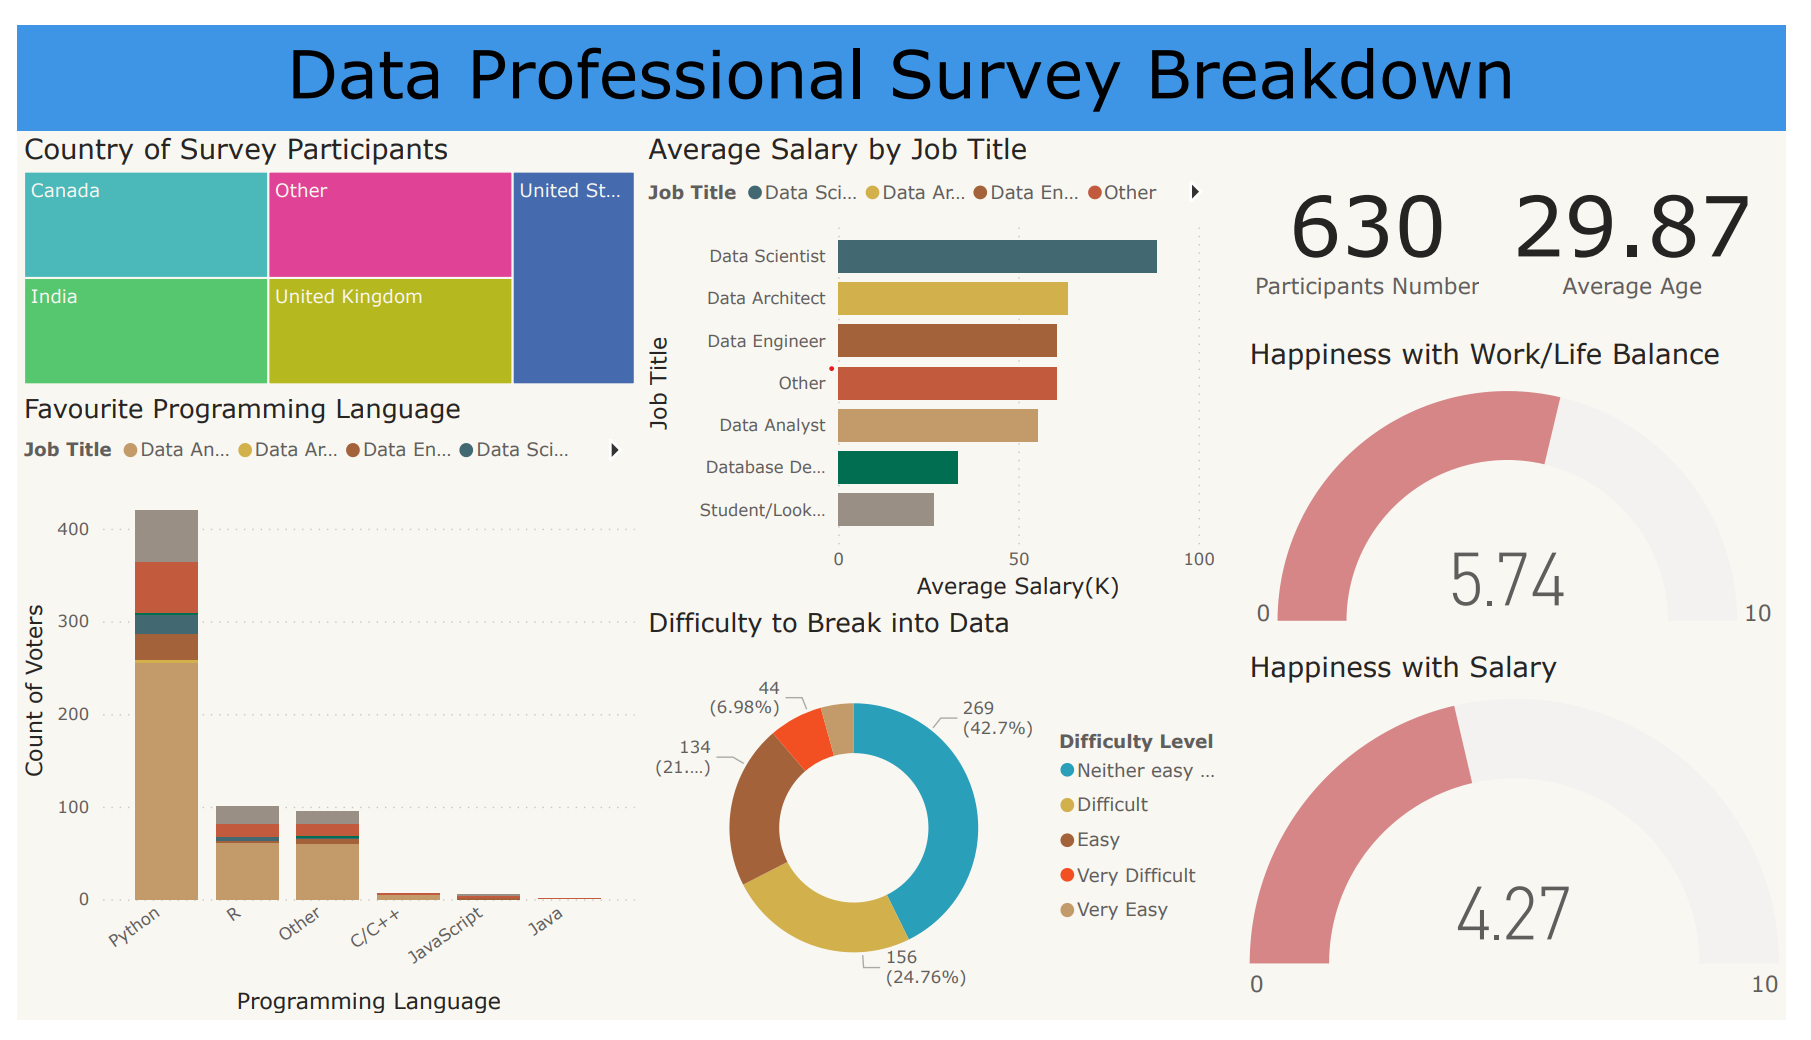

The page's visual inventory and layout, read from the dashboard file:
{"tool":"powerbi","page":{"name":"Page 1","canvas":[1280,720],"ordinal":0},"visuals":[{"type":"textbox","box":[10,0,1270,76.7],"z":0},{"type":"card","fields":{"Values":["Count(Data Professional Survey.Unique ID)"]},"box":[871.7,76.7,211.7,148.3],"z":1000},{"type":"card","fields":{"Values":["Avg(Data Professional Survey.Q10 - Current Age)"]},"box":[1058.3,76.7,221.7,148.3],"z":2000},{"type":"barChart","title":"Average Salary by Job Title","fields":{"Category":["Data Professional Survey.Q1 - Which Title Best Fits your Current Role?.1"],"Y":["Avg(Data Professional Survey.Average Salary)"],"Series":["Data Professional Survey.Q1 - Which Title Best Fits your Current Role?.1"]},"box":[451.7,76.7,420,343.3],"z":3000},{"type":"columnChart","title":"Favourite Programming Language","fields":{"Category":["Data Professional Survey.Q5 - Favorite Programming Language.1"],"Y":["CountNonNull(Data Professional Survey.Unique ID)"],"Series":["Data Professional Survey.Q1 - Which Title Best Fits your Current Role?.1"]},"box":[0,265.3,452.3,454.7],"z":4000},{"type":"treemap","title":"Country of Survey Participants","fields":{"Group":["Data Professional Survey.Q11 - Which Country do you live in?.1"],"Values":["Count(Data Professional Survey.Q11 - Which Country do you live in?.1)"]},"box":[0,77.2,452.3,188.1],"z":5000},{"type":"gauge","title":"Happiness with Work/Life Balance","fields":{"Y":["Avg(Data Professional Survey.Q6 - How Happy are you in your Current Position with the following? (Work/Life Balance))"],"MinValue":["Min(Data Professional Survey.Q6 - How Happy are you in your Current Position with the following? (Work/Life Balance))"],"MaxValue":["Max(Data Professional Survey.Q6 - How Happy are you in your Current Position with the following? (Work/Life Balance))"],"TargetValue":["Sum(Data Professional Survey.Q6 - How Happy are you in your Current Position with the following? (Work/Life Balance))"]},"box":[886.7,225,393.3,226.7],"z":6000},{"type":"gauge","title":"Happiness with Salary","fields":{"Y":["Avg(Data Professional Survey.Q6 - How Happy are you in your Current Position with the following? (Salary))"],"MinValue":["Min(Data Professional Survey.Q6 - How Happy are you in your Current Position with the following? (Salary))"],"MaxValue":["Max(Data Professional Survey.Q6 - How Happy are you in your Current Position with the following? (Salary))"]},"box":[886.7,451.7,393.3,268.3],"z":7000},{"type":"donutChart","title":"Difficulty to Break into Data","fields":{"Category":["Data Professional Survey.Q7 - How difficult was it for you to break into Data?"],"Y":["CountNonNull(Data Professional Survey.Q7 - How difficult was it for you to break into Data?)"]},"box":[451.7,420,435,300],"z":8000}]}

Visuals, with their boxes in screenshot pixels (x1, y1, x2, y2), scaled from the page's 1280x720 canvas onto the 1811x1040 screenshot:
textbox: {"x1": 14, "y1": 0, "x2": 1810, "y2": 111}
card - Count(Data Professional Survey.Unique ID): {"x1": 1233, "y1": 111, "x2": 1533, "y2": 325}
card - Avg(Data Professional Survey.Q10 - Current Age): {"x1": 1497, "y1": 111, "x2": 1810, "y2": 325}
"Average Salary by Job Title" barChart: {"x1": 639, "y1": 111, "x2": 1233, "y2": 607}
"Favourite Programming Language" columnChart: {"x1": 0, "y1": 383, "x2": 640, "y2": 1039}
"Country of Survey Participants" treemap: {"x1": 0, "y1": 112, "x2": 640, "y2": 383}
"Happiness with Work/Life Balance" gauge: {"x1": 1255, "y1": 325, "x2": 1810, "y2": 652}
"Happiness with Salary" gauge: {"x1": 1255, "y1": 652, "x2": 1810, "y2": 1039}
"Difficulty to Break into Data" donutChart: {"x1": 639, "y1": 607, "x2": 1255, "y2": 1039}
